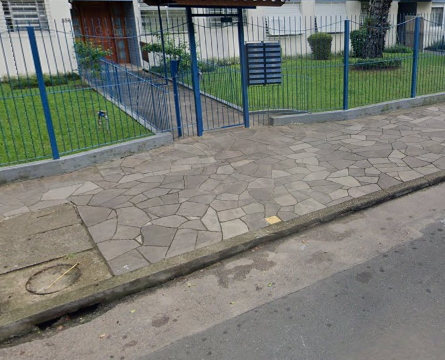vag47: (4, 182, 404, 351)
